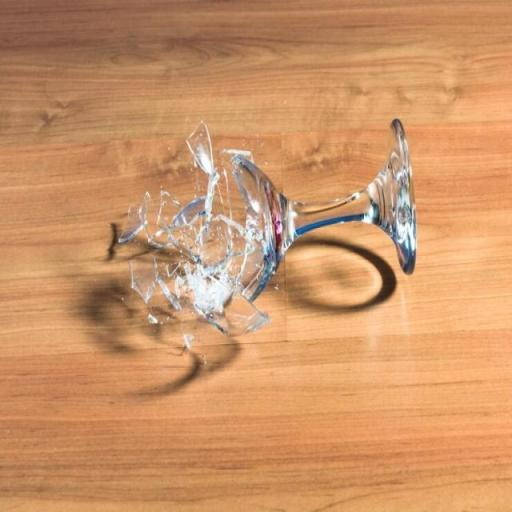glass: (222, 108, 428, 308), (223, 148, 269, 244), (168, 269, 230, 336), (218, 286, 272, 336), (185, 118, 221, 182), (214, 213, 248, 258), (130, 256, 159, 304), (168, 197, 210, 229), (158, 189, 186, 235), (130, 192, 152, 244), (204, 168, 220, 232), (144, 222, 176, 249), (156, 275, 180, 310), (231, 166, 252, 205), (222, 166, 234, 228), (196, 212, 210, 246), (165, 260, 184, 280), (165, 192, 181, 213), (222, 148, 252, 159), (128, 260, 135, 295), (183, 332, 194, 350), (256, 133, 265, 152), (192, 157, 198, 168)
